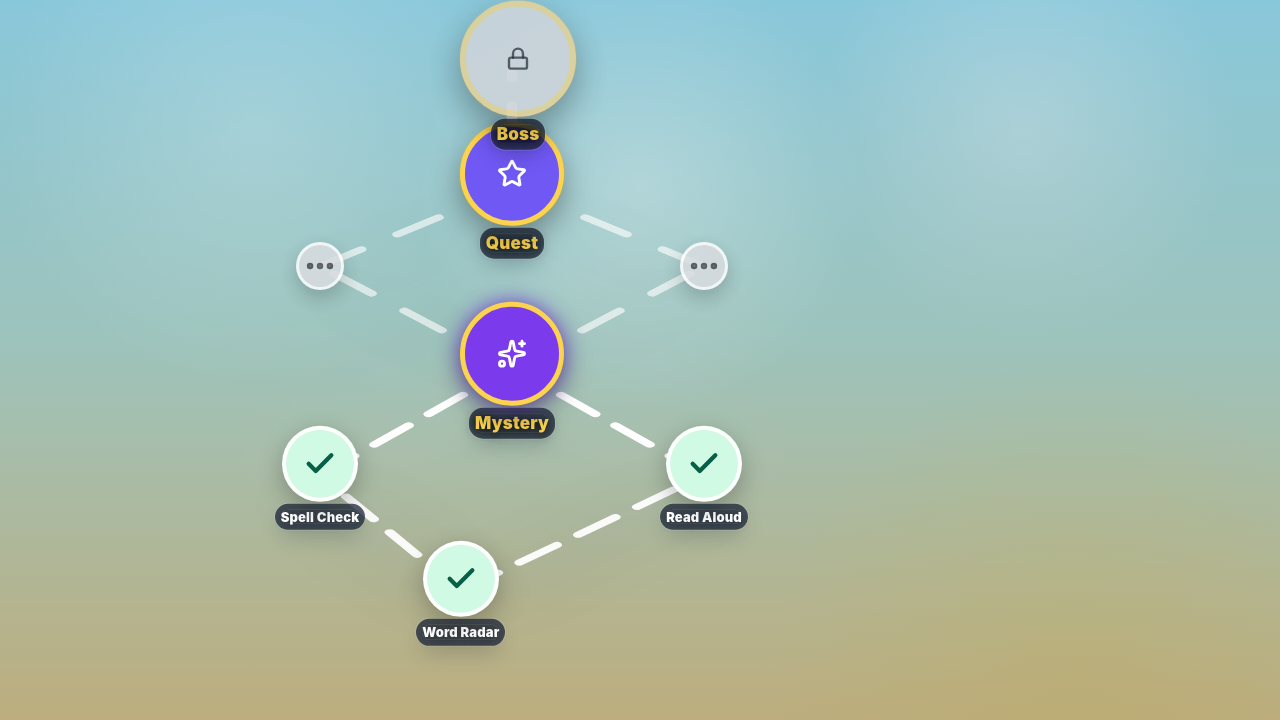
it: AdventureBoard › renders locked Quest and Boss choice cards as disabled cards with visible lock copy
This screenshot has width=1280, height=720.
Click the button "Quest": (512, 187) [460,122,564,252]
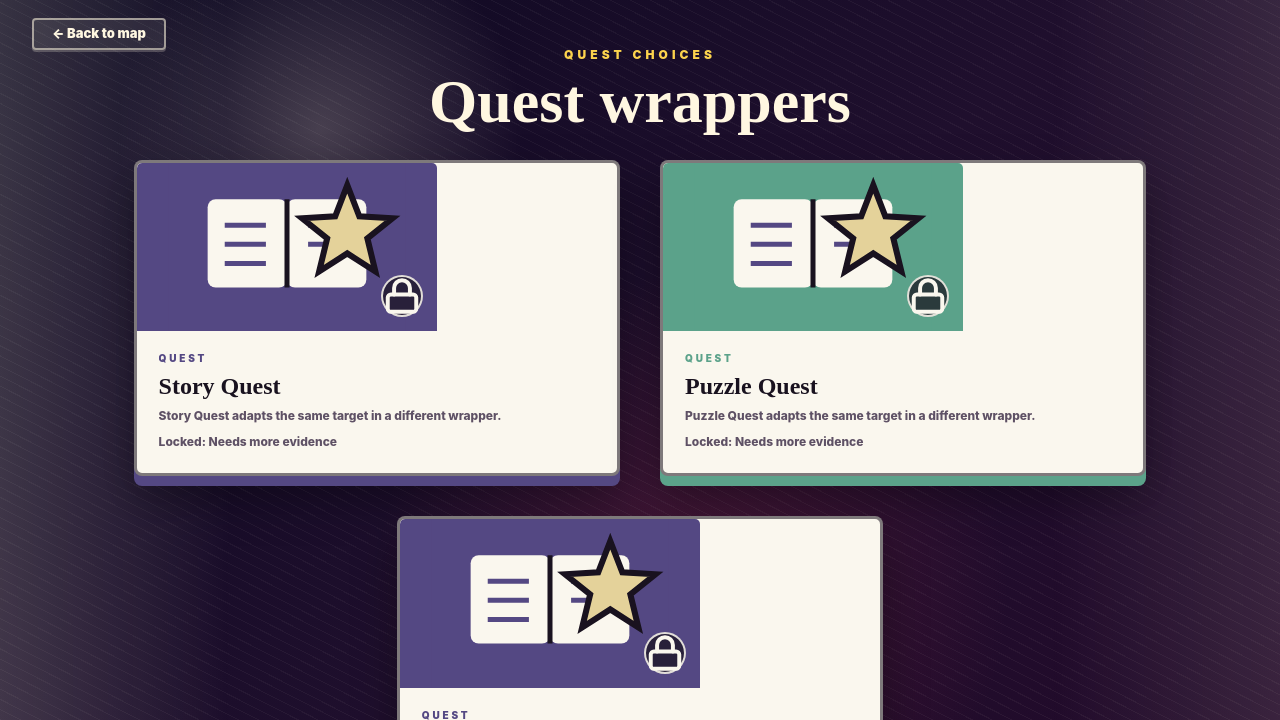
Expected: the button "Story Quest" is disabled, [134,160,620,476]
Expected: the 1st text "Locked: Needs more evidence" is shown, [159,434,337,449]
